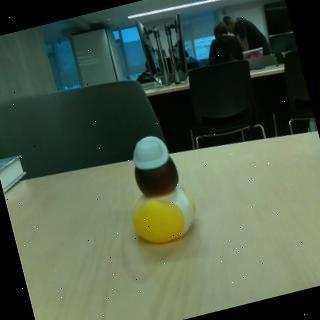duck_specialty: (112, 127, 205, 251)
